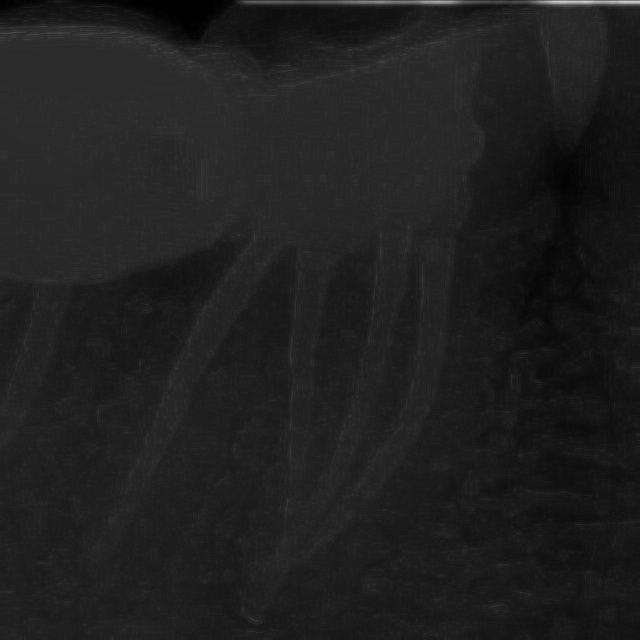Class 0- No endodontic treatment: (76, 11, 592, 628)
